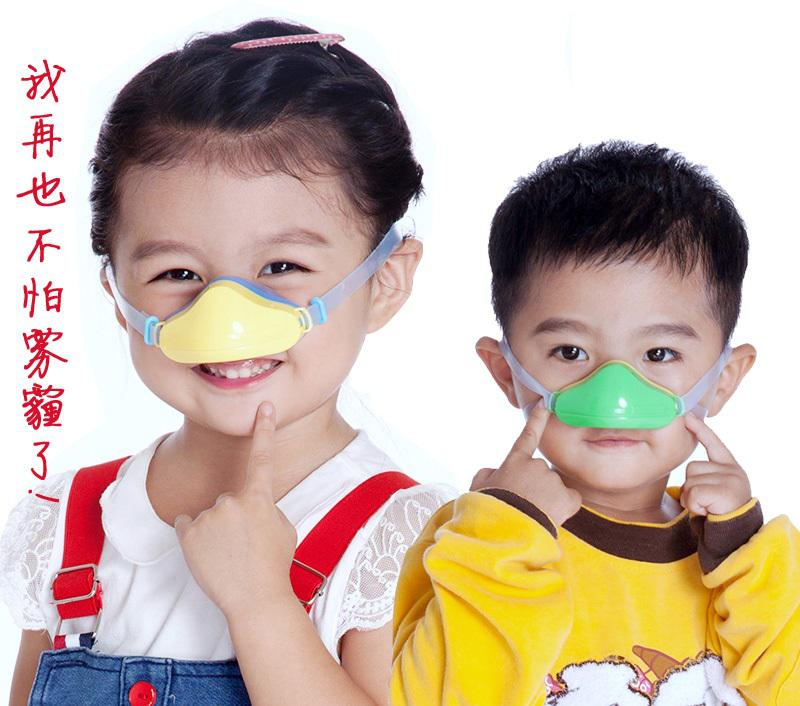WRONG: (128, 226, 335, 433), (524, 311, 702, 489)
